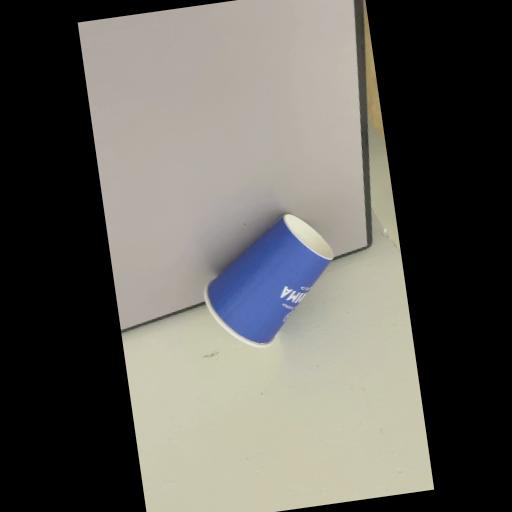lp_paper_cup: (192, 204, 349, 354), (193, 203, 347, 353)
